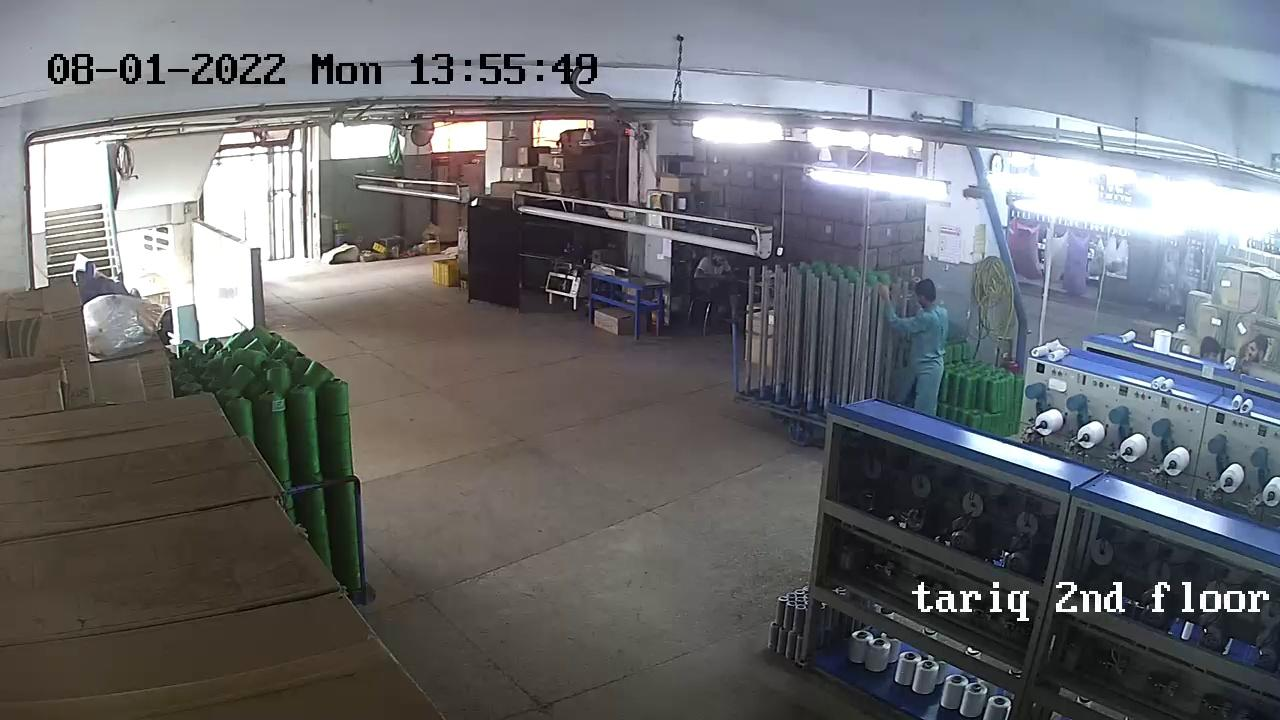person: (897, 278, 952, 385), (1245, 335, 1274, 370), (1202, 335, 1224, 360)
